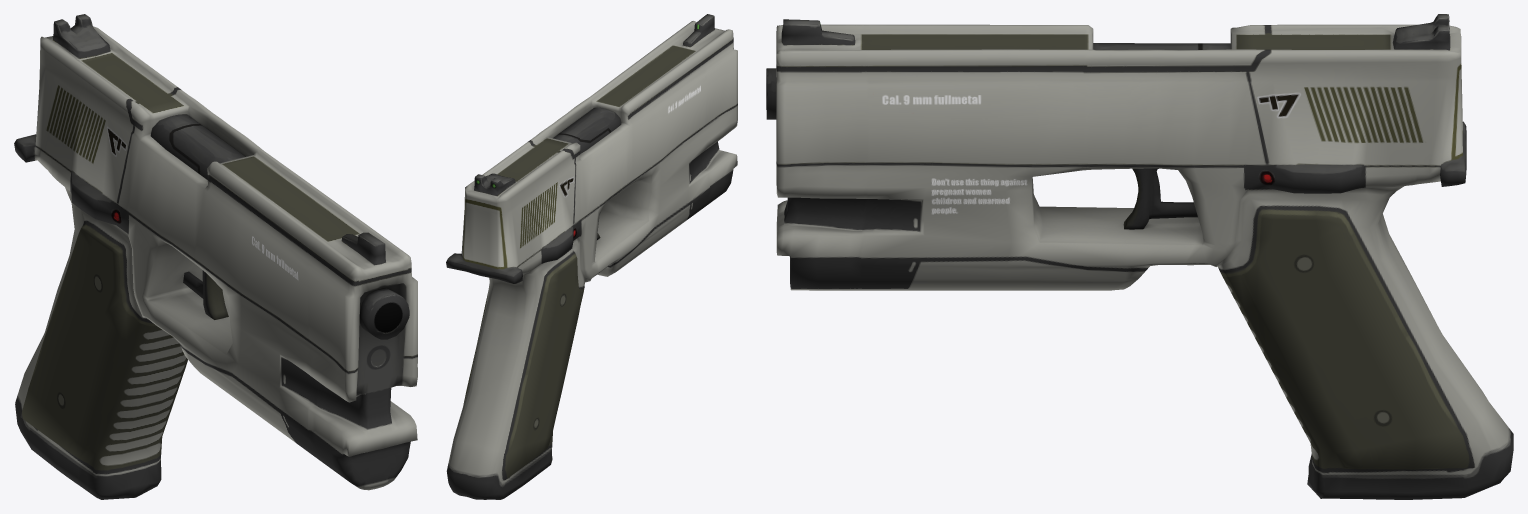
Rendered from pistol.glb.
3 renders of one model, left to right at view 1: azimuth 30°, elevation 25°; view 2: azimuth 150°, elevation 25°; view 3: azimuth 270°, elevation 25°, orthographic. The views are drawn at different scales.
Visible parts, largest first — view 1: Mesh_0; view 2: Mesh_0; view 3: Mesh_0.
Boxes of the visible parts, left/top/right/bottom form: Mesh_0: left=14, top=14, right=417, bottom=499; Mesh_0: left=446, top=14, right=737, bottom=499; Mesh_0: left=766, top=14, right=1513, bottom=499.
Bounding box in the file's own units: 0.0174 × 0.0745 × 0.109.
Materials: 1 (1 with a texture image).
